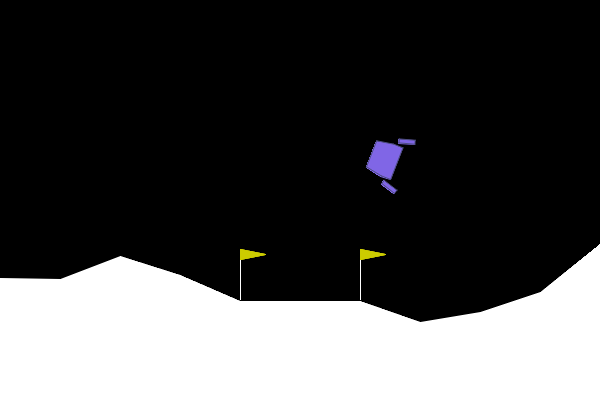lander: (358, 126, 417, 196)
